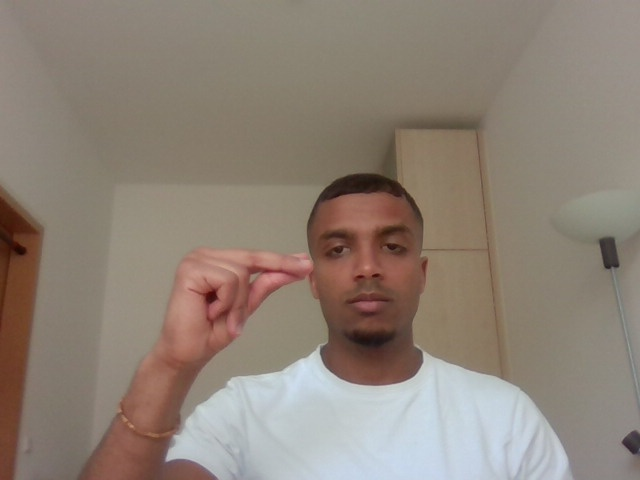no: (148, 231, 318, 374)
